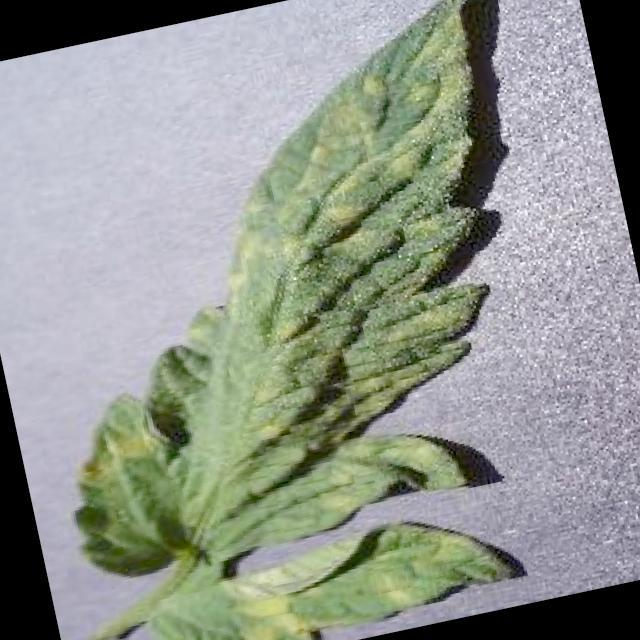Tomato mold leaf: (0, 0, 575, 584), (145, 498, 519, 640)
